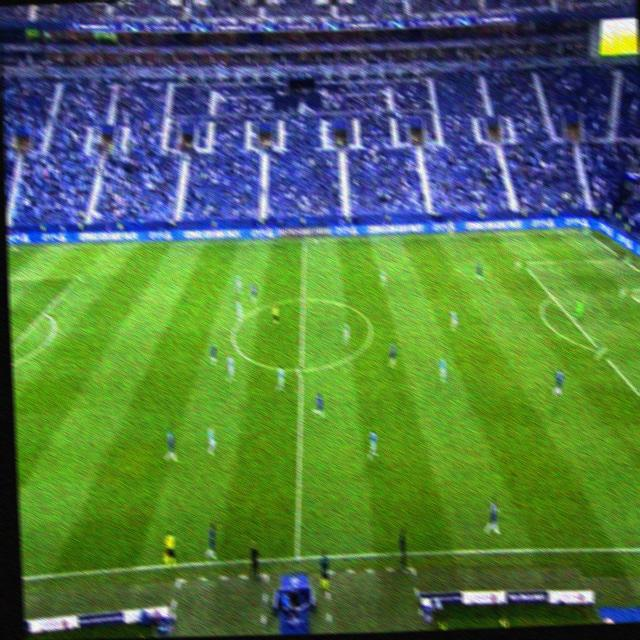bigarea_top_inner: (71, 269, 84, 282), (513, 258, 527, 269)
bigarea_top_outter: (615, 253, 630, 264)
bottom_arc_area_intersection: (593, 346, 608, 359)
corner: (577, 226, 590, 237), (7, 243, 18, 255)
halfcircle_bottom: (292, 366, 303, 376)
halfcircle_top: (296, 294, 309, 305)
midline_bottom_intersection: (289, 551, 301, 565)
midline_top_intersection: (296, 234, 308, 245)
smallarea_top_inner: (618, 283, 632, 297)
top_arc_area_intersection: (37, 308, 50, 321), (544, 291, 558, 303)
